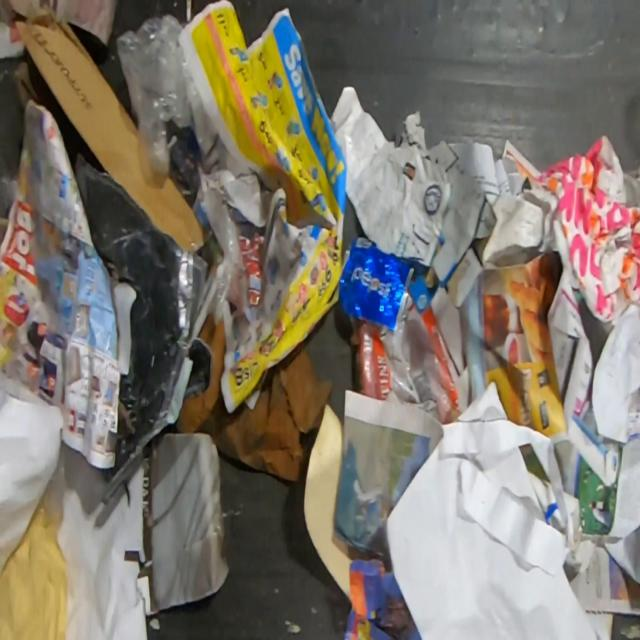cardboard: (12, 9, 211, 255), (175, 311, 335, 483)
metal: (339, 236, 415, 330)
rigid_plastic: (29, 452, 65, 524)
soft_plastic: (116, 12, 202, 180), (356, 308, 459, 421), (0, 174, 18, 244)
